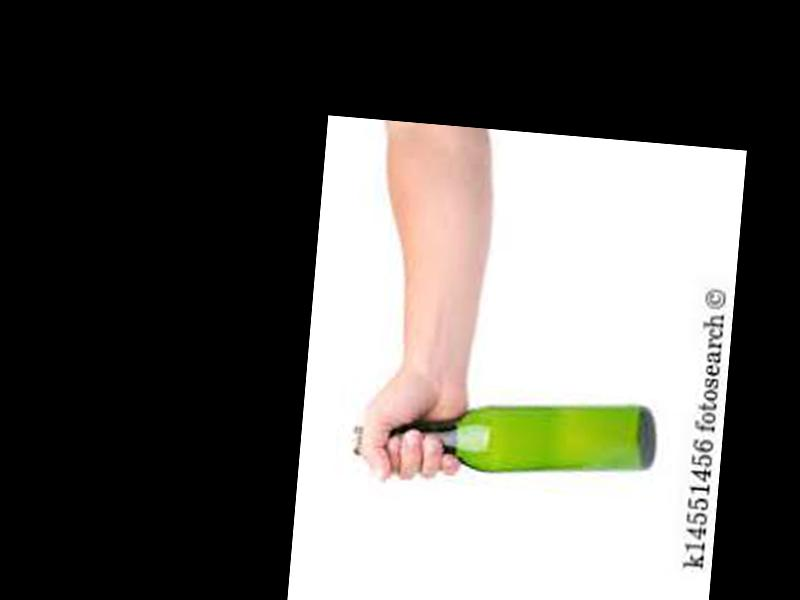Beer: (352, 380, 659, 485)
